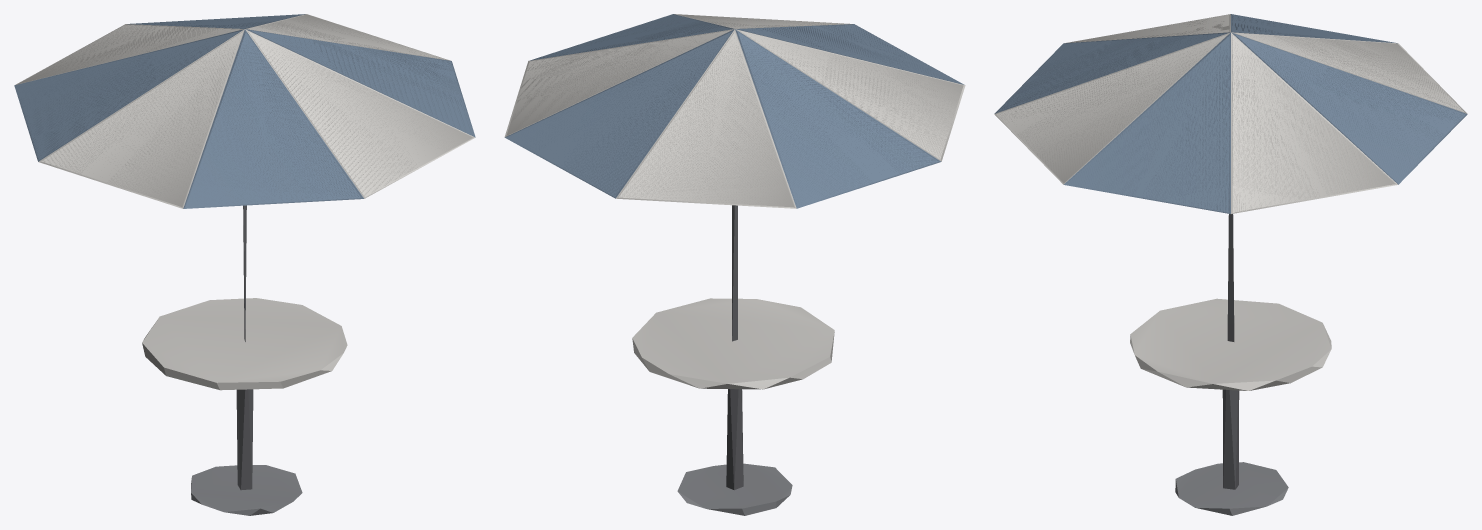
Rendered from furn_parasol_table__navy_low.glb.
The picture shows the model from 3 angles, left to right: view 1: azimuth 30°, elevation 25°; view 2: azimuth 150°, elevation 25°; view 3: azimuth 270°, elevation 25°; orthographic projection.
Size of the model in its own units: 2.1 by 2.25 by 2.1.
